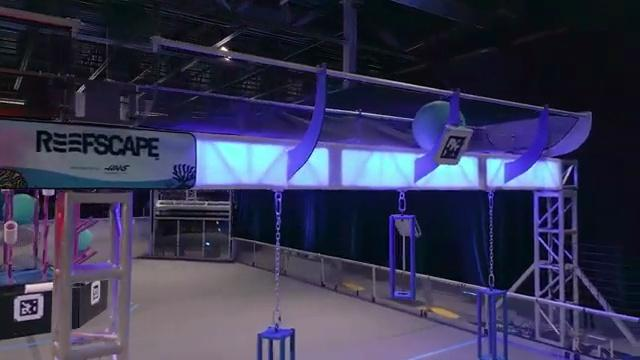ALGAE: (412, 99, 466, 155), (77, 229, 92, 251)
